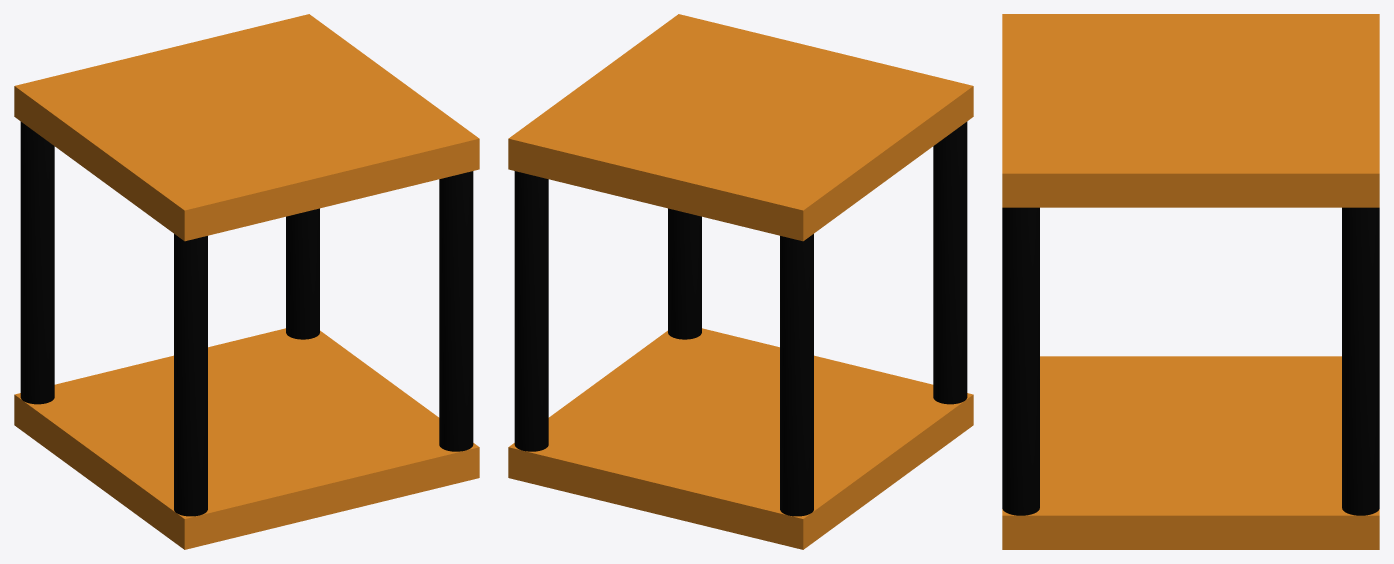
The model's file is floorplate.glb.
3 renders of one model, left to right at view 1: azimuth 30°, elevation 25°; view 2: azimuth 150°, elevation 25°; view 3: azimuth 270°, elevation 25°, orthographic. The views are drawn at different scales.
Visible parts, largest first — view 1: Cube.001, Cube, Cylinder.003, Cylinder.001, Cylinder.002, Cylinder; view 2: Cube.001, Cube, Cylinder, Cylinder.002, Cylinder.001, Cylinder.003; view 3: Cube.001, Cube, Cylinder, Cylinder.003.
Boxes of the visible parts, x1,y1,x2,y2 form: Cube.001: [14, 14, 479, 241]; Cube: [14, 328, 479, 549]; Cylinder.003: [439, 171, 473, 451]; Cylinder.001: [20, 121, 54, 404]; Cylinder.002: [174, 234, 207, 516]; Cylinder: [286, 208, 319, 339]; Cube.001: [508, 14, 973, 241]; Cube: [508, 328, 973, 549]; Cylinder: [514, 171, 548, 451]; Cylinder.002: [933, 121, 967, 404]; Cylinder.001: [780, 234, 813, 516]; Cylinder.003: [668, 208, 701, 339]; Cube.001: [1002, 14, 1379, 207]; Cube: [1002, 356, 1379, 549]; Cylinder: [1342, 207, 1379, 515]; Cylinder.003: [1002, 207, 1039, 515].
Size of the model in its own units: 2 by 2.2 by 2.
